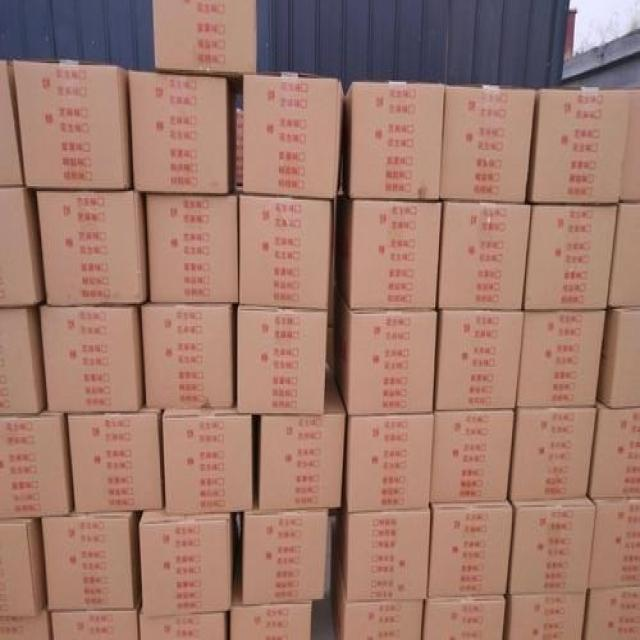box: (13, 61, 132, 188), (129, 73, 237, 193), (244, 72, 346, 198), (36, 191, 148, 305), (527, 90, 632, 203), (344, 82, 442, 200), (340, 201, 442, 311), (260, 379, 346, 509), (239, 196, 335, 311), (41, 305, 145, 411), (337, 304, 435, 413), (329, 532, 429, 638), (138, 510, 236, 618), (442, 90, 536, 201), (68, 404, 163, 512), (146, 196, 239, 304), (42, 510, 143, 609), (439, 203, 531, 311), (238, 307, 328, 415), (143, 302, 234, 408), (163, 408, 252, 515), (525, 207, 616, 311), (343, 416, 433, 512), (517, 312, 605, 408), (438, 312, 524, 410), (335, 510, 429, 599), (509, 498, 594, 596), (509, 410, 596, 502), (0, 411, 74, 519), (151, 0, 257, 75), (242, 510, 328, 602), (428, 503, 512, 597), (430, 413, 513, 502), (230, 570, 314, 638), (0, 189, 45, 307), (0, 309, 46, 415), (588, 403, 639, 497), (0, 517, 46, 618), (589, 500, 640, 591), (600, 311, 639, 408), (422, 596, 504, 638), (506, 597, 586, 638), (0, 61, 24, 186), (609, 205, 639, 305), (140, 608, 228, 640), (585, 591, 639, 638), (51, 609, 137, 638), (621, 90, 640, 201), (1, 609, 54, 638)
